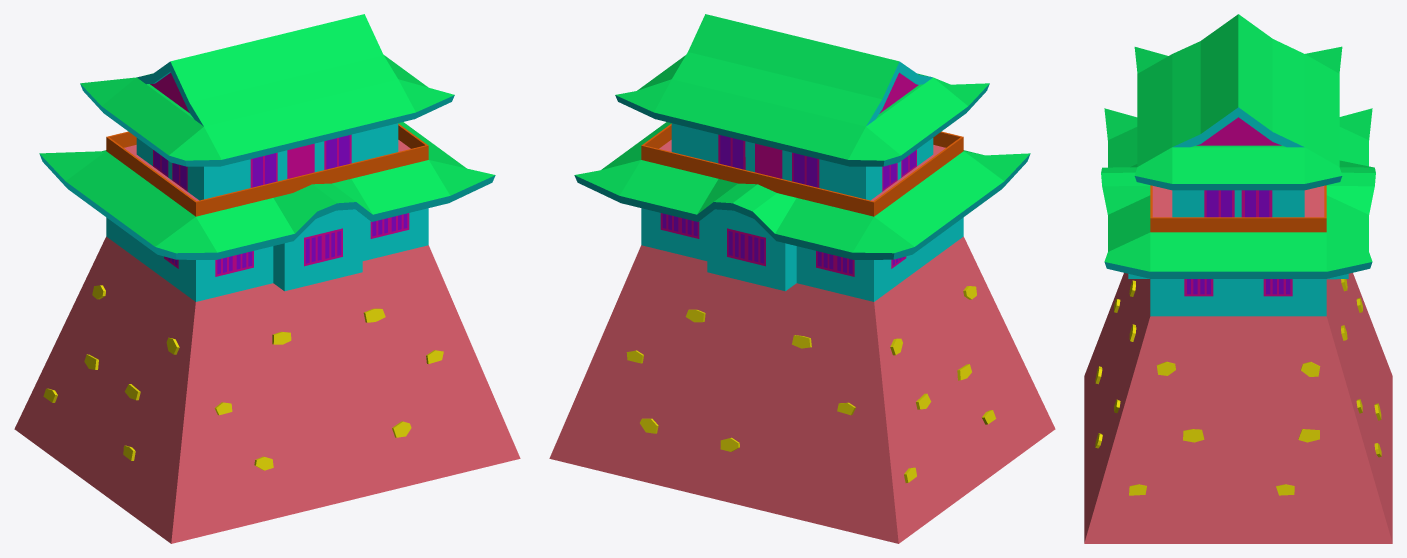
The model's file is decoration-tower-japan.fbx.
The picture shows the model from 3 angles, left to right: view 1: azimuth 30°, elevation 25°; view 2: azimuth 150°, elevation 25°; view 3: azimuth 270°, elevation 25°; orthographic projection.
Visible parts, largest first — view 1: decoration-tower-japan; view 2: decoration-tower-japan; view 3: decoration-tower-japan.
Boxes of the visible parts, x1,y1,x2,y2 form: decoration-tower-japan: (14,14,520,543); decoration-tower-japan: (549,14,1055,543); decoration-tower-japan: (1084,14,1392,543).
Size of the model in its own units: 18 by 20 by 14.
